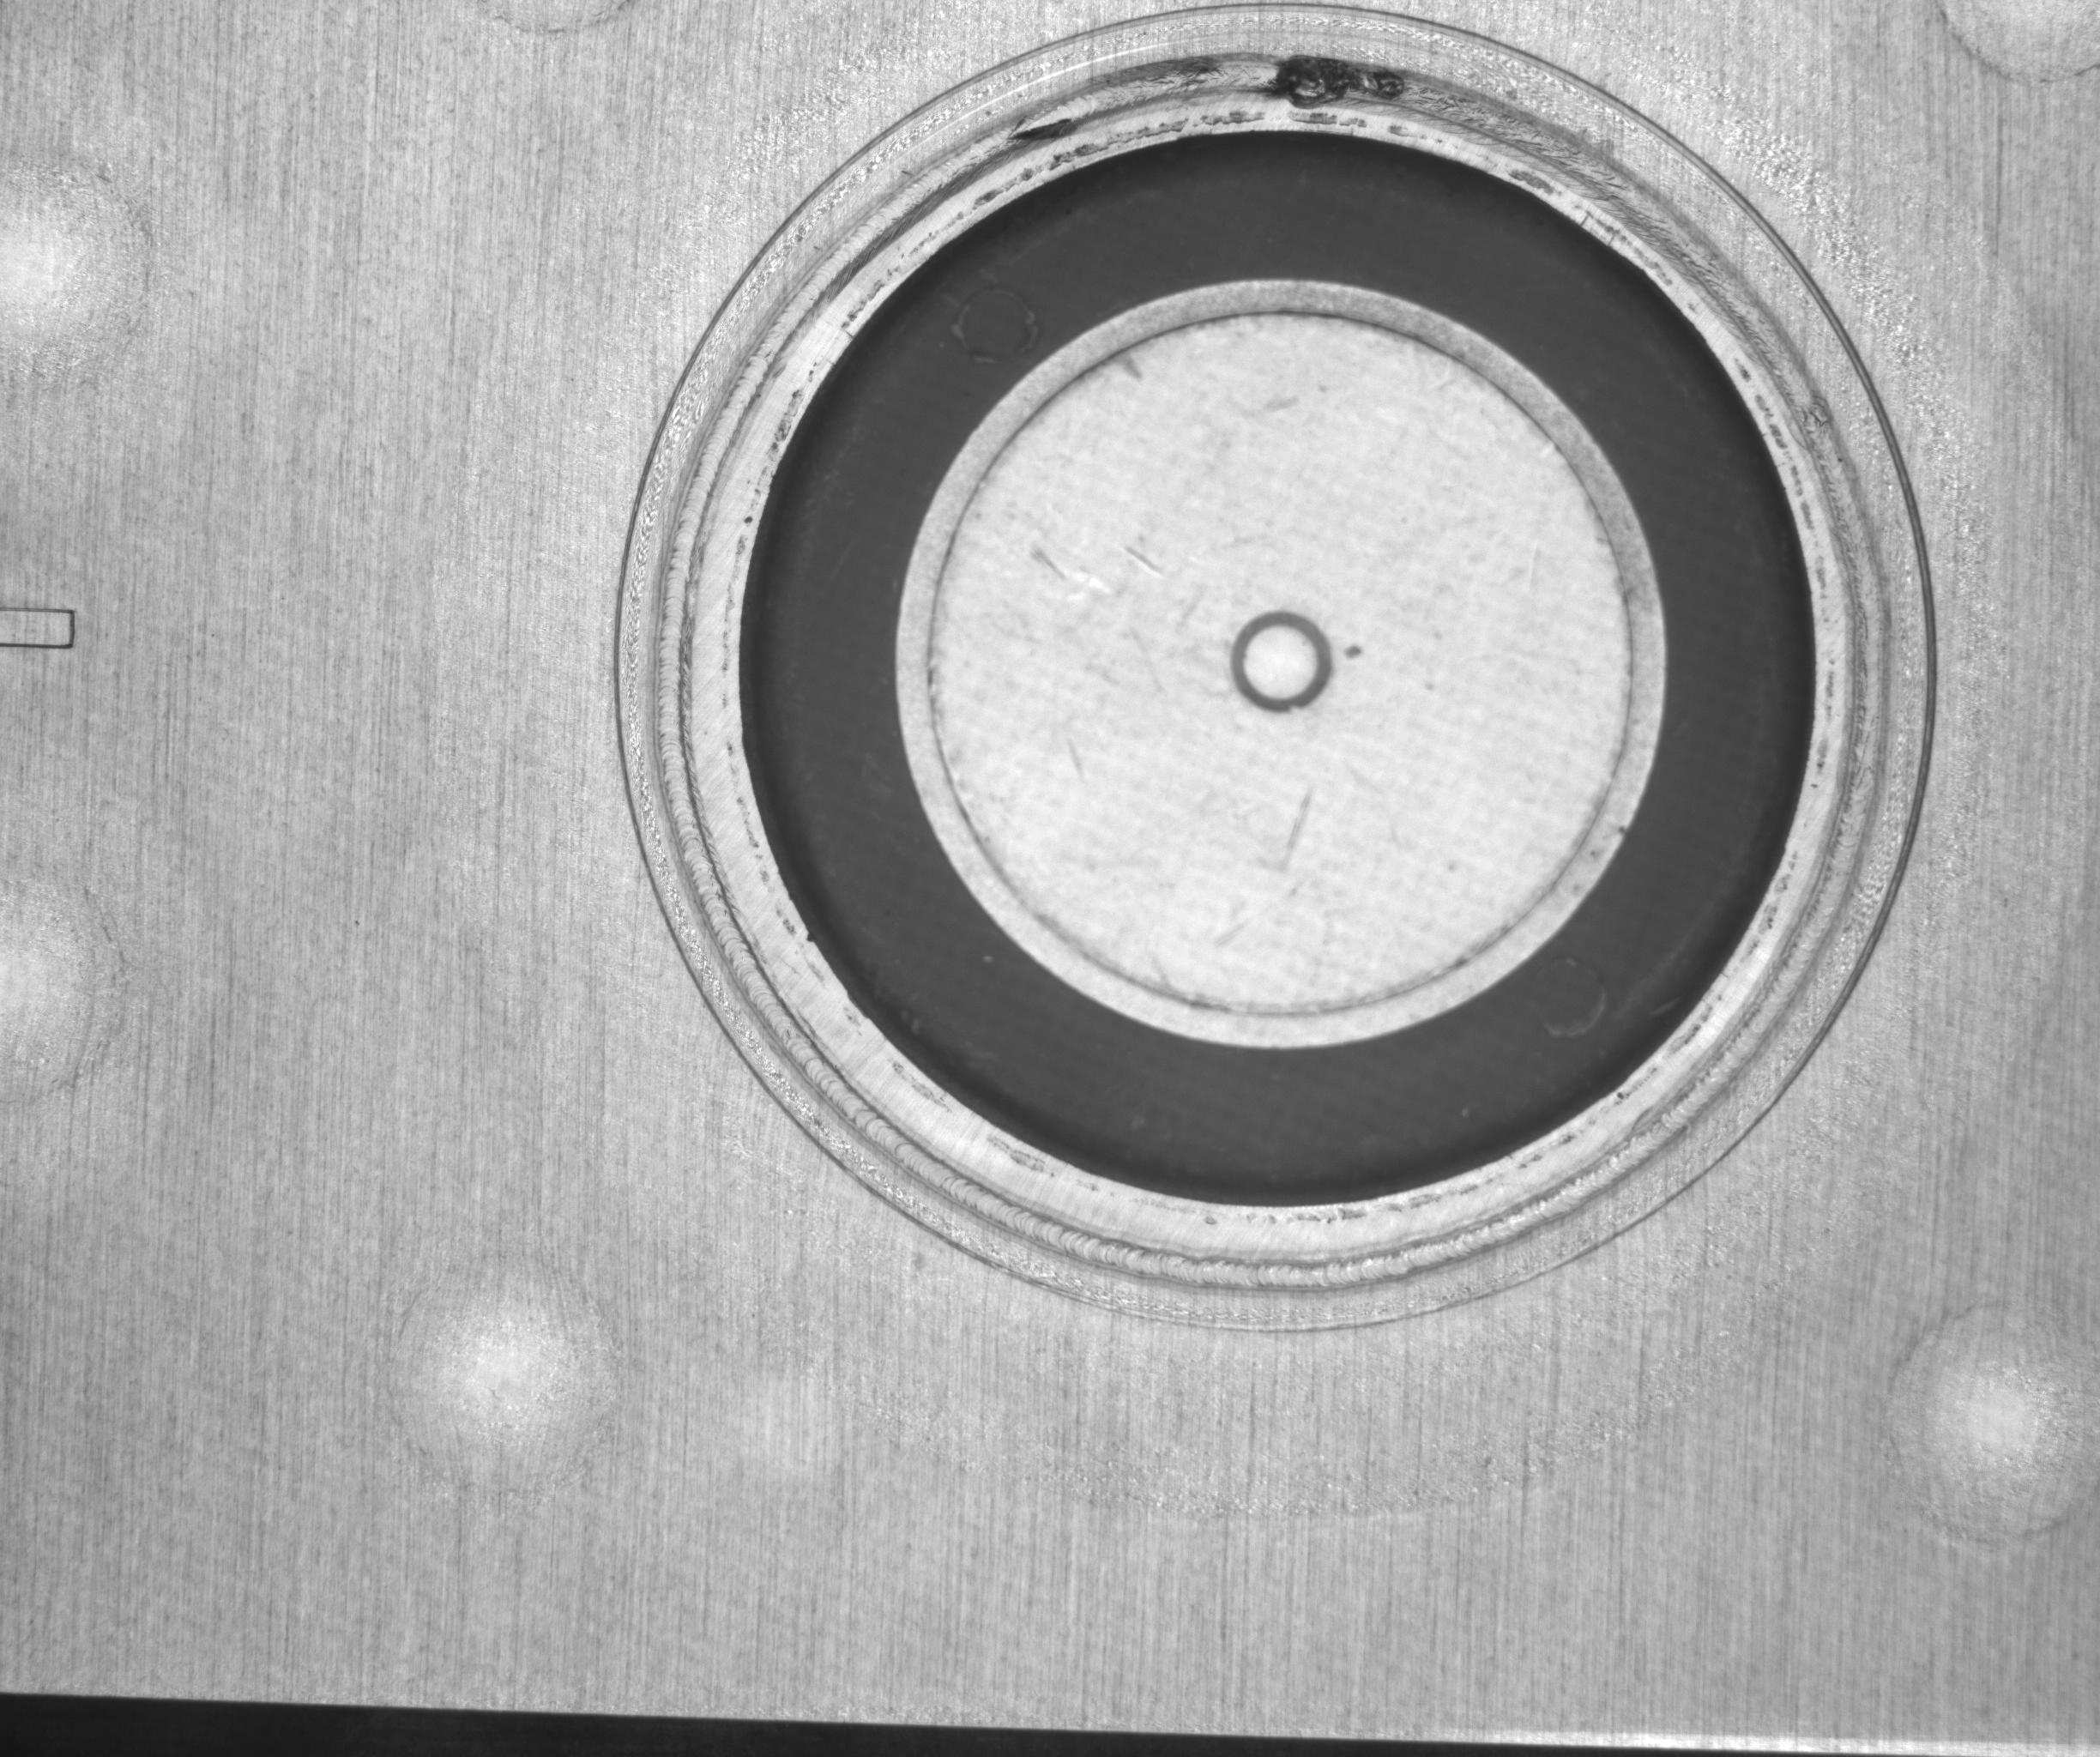continuousholes: (1186, 7, 1474, 155)
